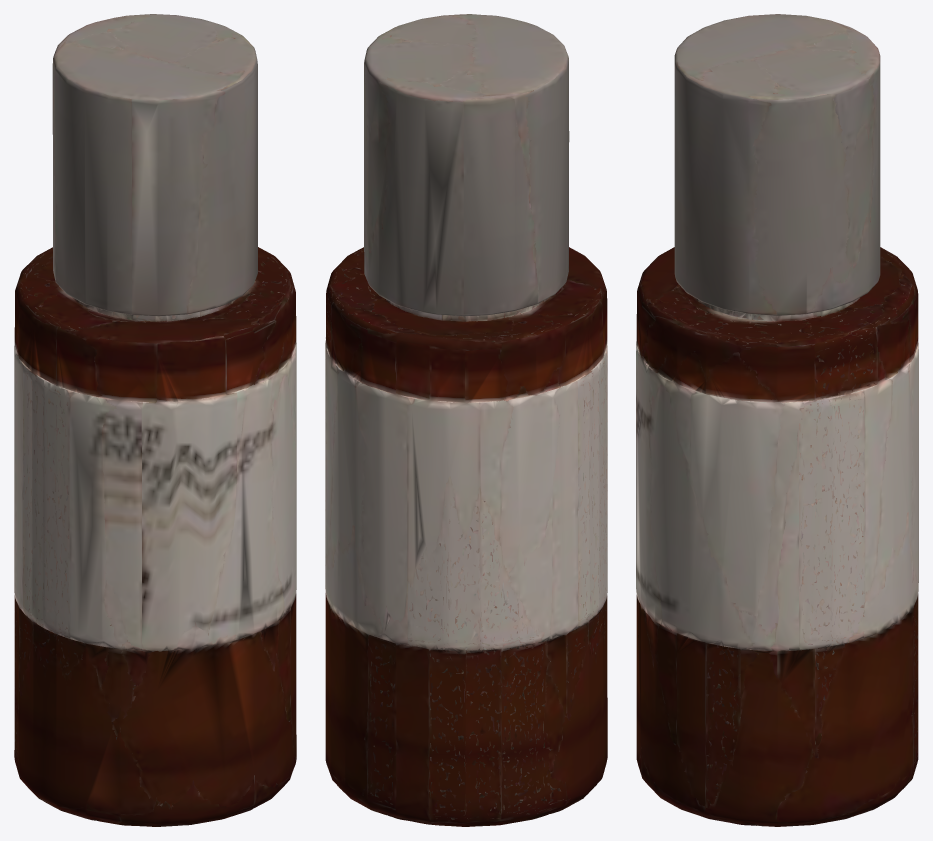
Rendered from maison-crivelli-cuir-infrarouge.glb.
The picture shows the model from 3 angles, left to right: view 1: azimuth 30°, elevation 25°; view 2: azimuth 150°, elevation 25°; view 3: azimuth 270°, elevation 25°; orthographic projection.
Parts seen in each view (by area): view 1: material; view 2: material; view 3: material.
Part boxes in pixels (x1,y1,x2,y2): material: (14, 14, 296, 826); material: (325, 14, 607, 826); material: (636, 14, 918, 826).
Size of the model in its own units: 0.4106 by 1.14 by 0.4079.
Materials: 1 (1 with a texture image).
